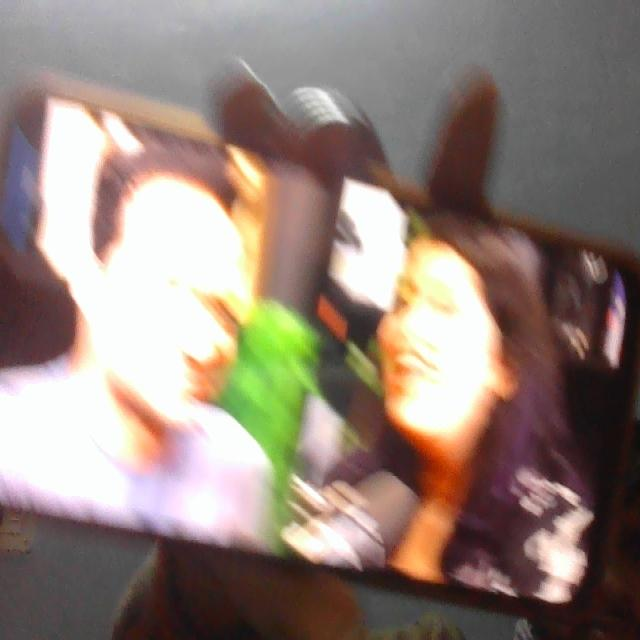fake: (354, 141, 526, 467)
